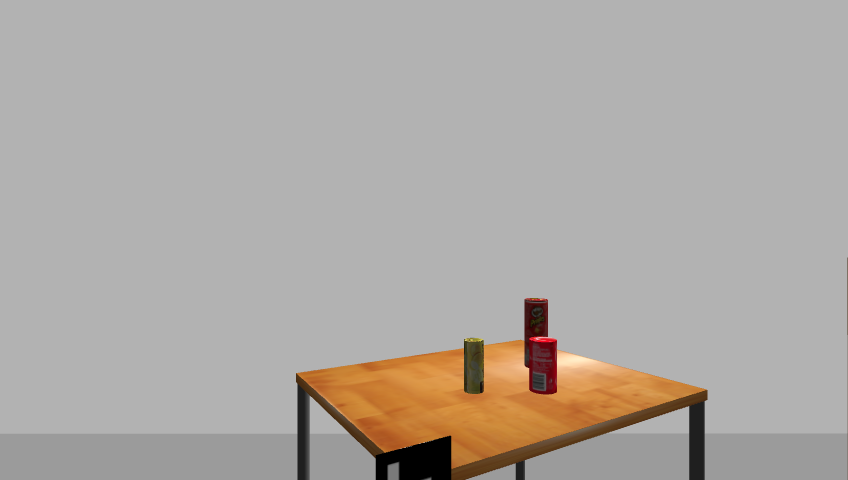aruco marker: (371, 435, 458, 480)
biscuits pack: (462, 337, 485, 395)
coke can: (528, 338, 560, 395)
dinner table: (286, 339, 717, 480)
pringles can: (521, 297, 551, 370)
